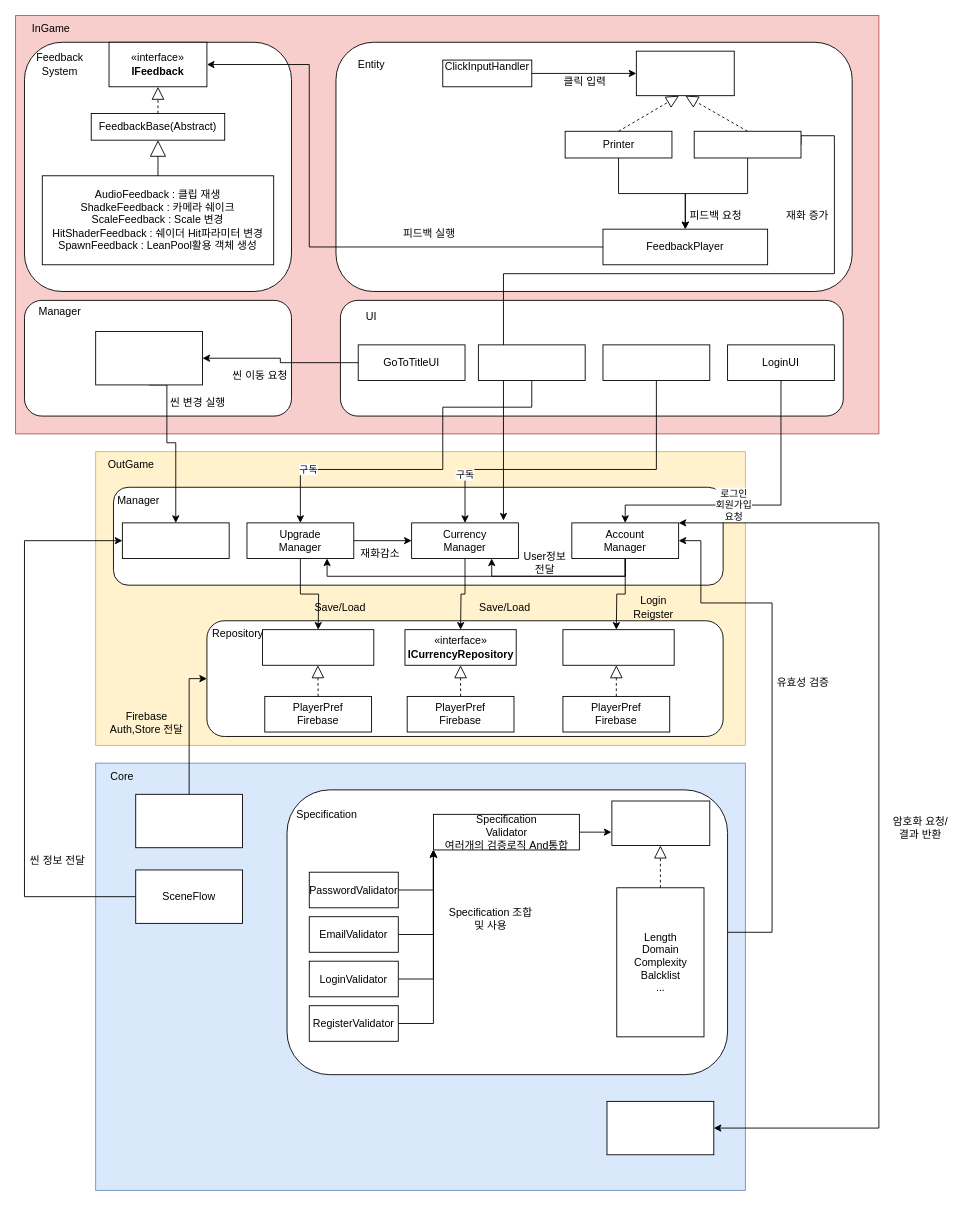
Some shapes in this 978 by 1206 pixel diagram are drawn without their labels. Here are the shapes that lost their labels. From the top down, the box of each, then its label:
(635, 50, 734, 96): «interface» IClickable
(693, 130, 801, 158): Product
(95, 331, 202, 385): GameFlowManager
(477, 344, 585, 380): UpgradeUI
(602, 344, 710, 380): CurrencyUI
(121, 522, 229, 558): MySceneManager
(262, 629, 374, 665): «interface» IUpgradeRepository
(562, 629, 674, 665): «interface» IAccountRepository
(135, 793, 243, 848): Firebase Service
(611, 800, 710, 846): «interface» ISpecification
(606, 1100, 714, 1155): Crypto 비밀번호 해쉬 암호화
